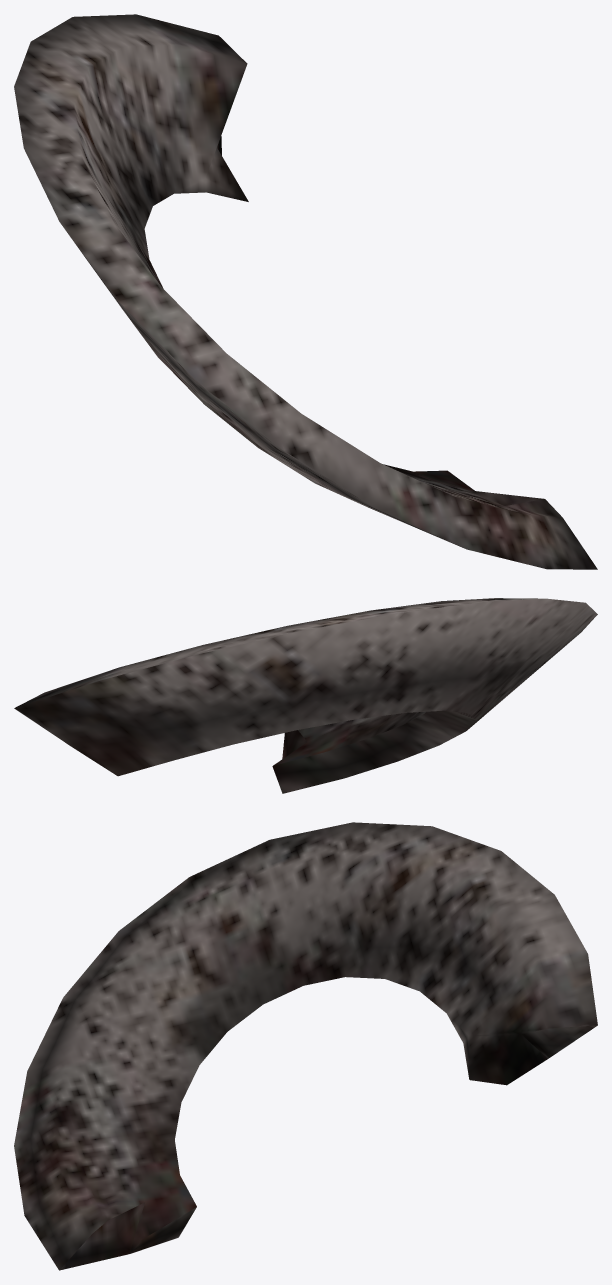
File: item2.fbx
3 renders of one model, top to bottom at view 1: azimuth 30°, elevation 25°; view 2: azimuth 150°, elevation 25°; view 3: azimuth 270°, elevation 25°, orthographic. The views are drawn at different scales.
Visible parts, largest first — view 1: Item2; view 2: Item2; view 3: Item2.
Boxes of the visible parts, <box> form: Item2: <box>14,14,597,569</box>; Item2: <box>14,598,597,793</box>; Item2: <box>14,822,597,1270</box>.
Bounding box in the file's own units: 87.61 × 81.51 × 139.
